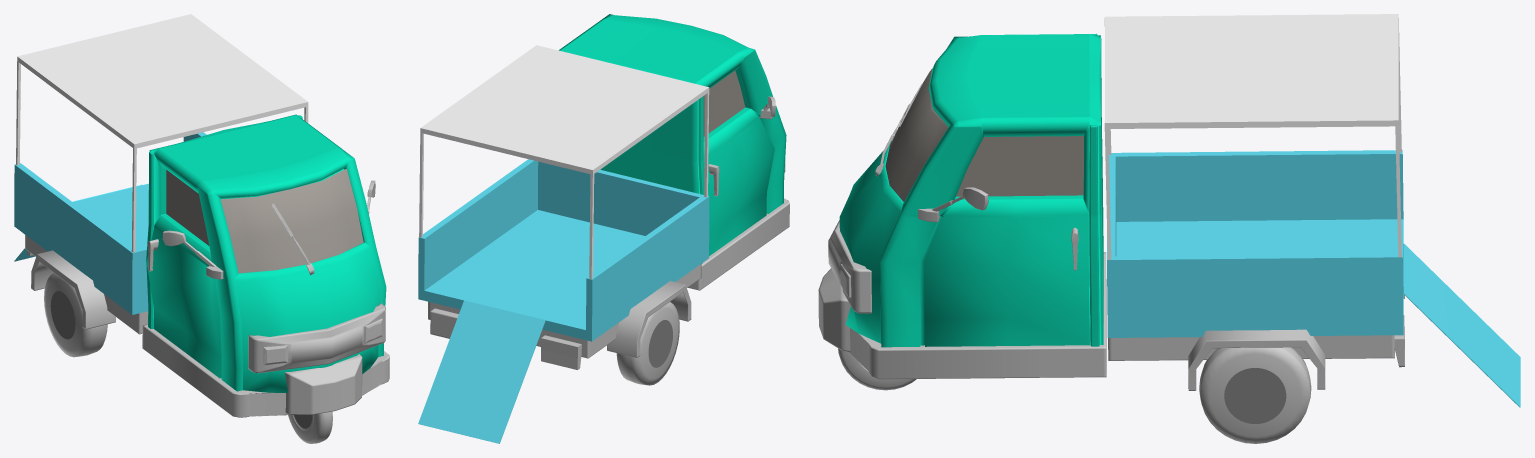
Rendered from APECAR SAVANA.fbx.
3 views of the same model, side by side, from view 1: azimuth 30°, elevation 25°; view 2: azimuth 150°, elevation 25°; view 3: azimuth 270°, elevation 25° (orthographic). The views are drawn at different scales.
Parts seen in each view (by area): view 1: Layer 01, Layer 01.001, APECAR_2, APECAR_5, APECAR_4; view 2: Layer 01, Layer 01.001, APECAR_5, APECAR_3, APECAR_2; view 3: Layer 01, Layer 01.001, APECAR_2, APECAR_5.
Boxes of the visible parts, <box> form: Layer 01: <box>14,114,389,428</box>; Layer 01.001: <box>16,14,308,252</box>; APECAR_2: <box>166,168,363,273</box>; APECAR_5: <box>44,273,332,443</box>; APECAR_4: <box>263,318,382,365</box>; Layer 01: <box>418,14,789,443</box>; Layer 01.001: <box>419,45,709,279</box>; APECAR_5: <box>616,302,679,385</box>; APECAR_3: <box>430,308,581,369</box>; APECAR_2: <box>703,70,745,136</box>; Layer 01: <box>818,33,1520,423</box>; Layer 01.001: <box>1104,14,1401,259</box>; APECAR_2: <box>885,68,1083,201</box>; APECAR_5: <box>838,347,1311,443</box>.
Bounding box in the file's own units: 140 × 160 × 318.
